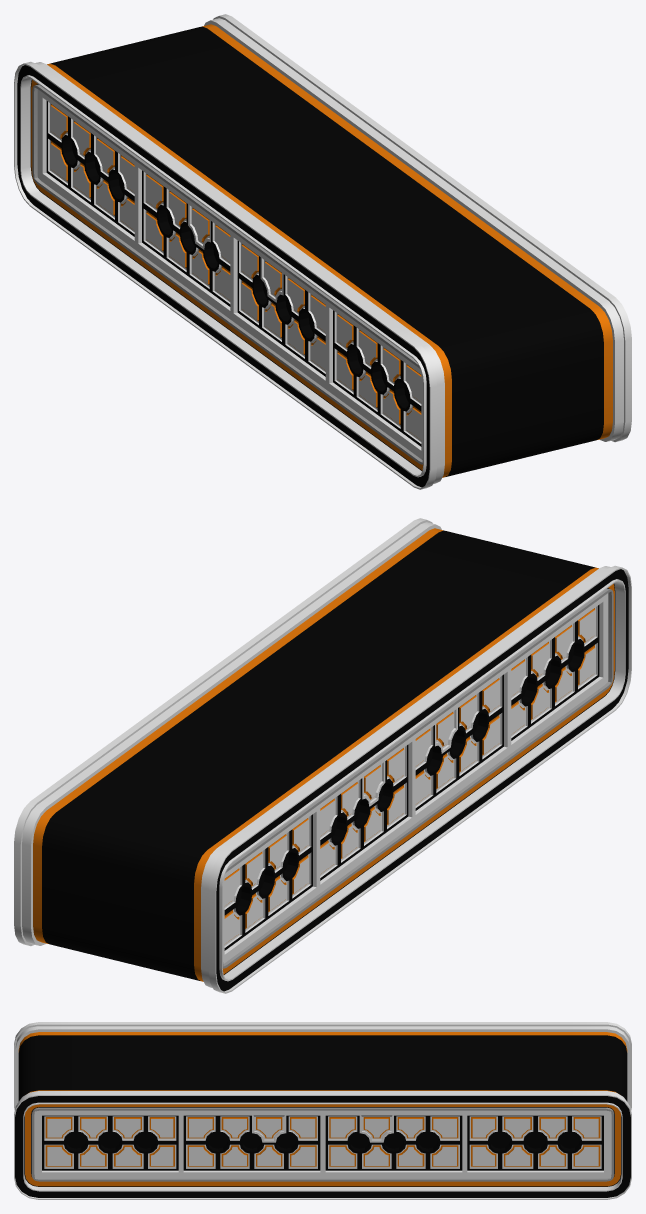
File: ConveyotBeltI.fbx
The picture shows the model from 3 angles, top to bottom: view 1: azimuth 30°, elevation 25°; view 2: azimuth 150°, elevation 25°; view 3: azimuth 270°, elevation 25°; orthographic projection. The views are drawn at different scales.
Visible parts, largest first — view 1: ConveyorBeltI; view 2: ConveyorBeltI; view 3: ConveyorBeltI.
Part boxes in pixels (x1,y1,x2,y2): ConveyorBeltI: [14, 14, 631, 489]; ConveyorBeltI: [14, 518, 631, 993]; ConveyorBeltI: [14, 1022, 631, 1199].
Size of the model in its own units: 55.97 by 37.37 by 200.
